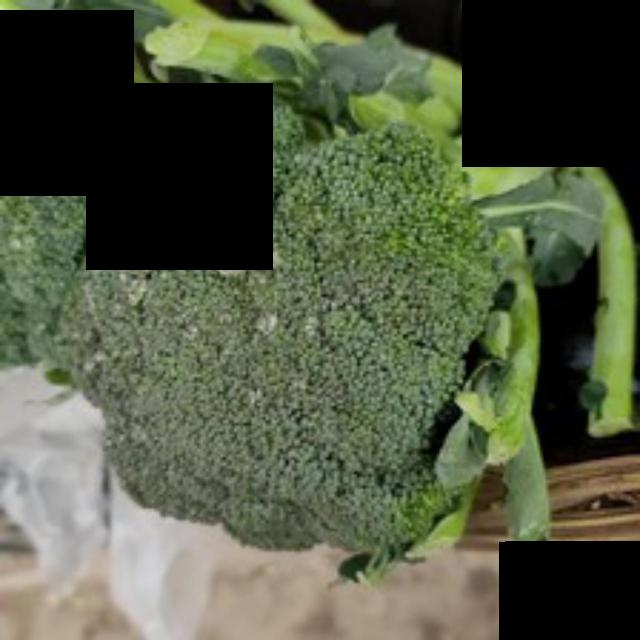broccoli: (72, 85, 510, 567)
